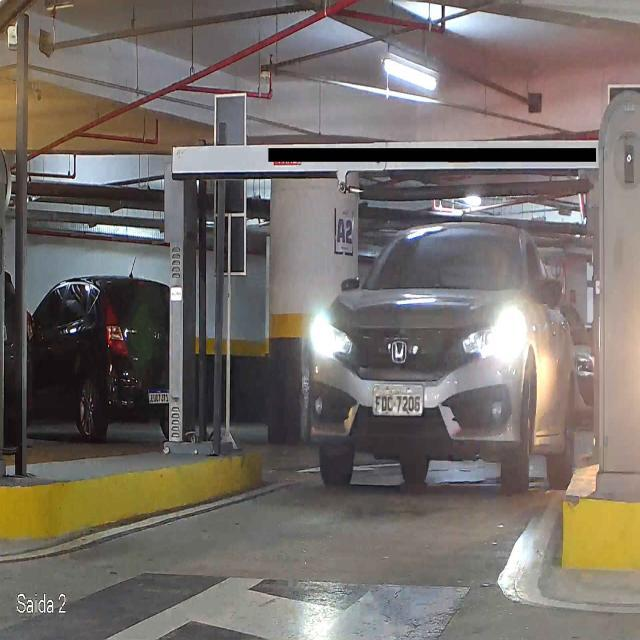old_plate: (369, 382, 426, 418)
